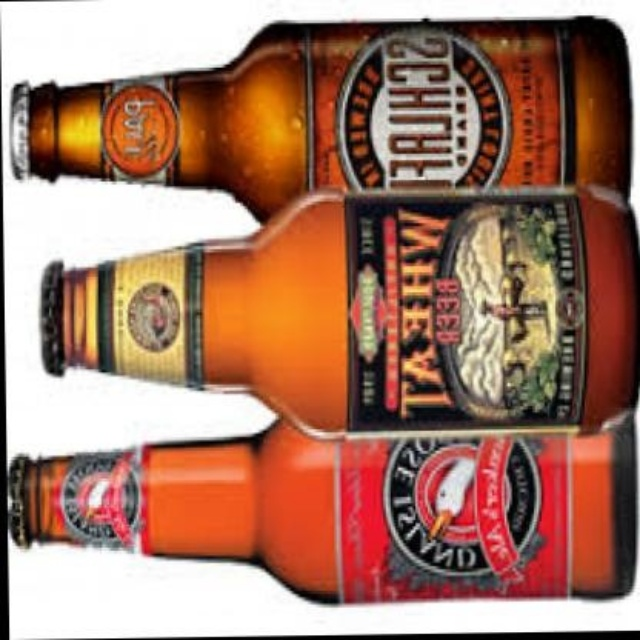trash: (9, 17, 638, 602), (42, 188, 635, 429), (11, 18, 629, 220), (9, 411, 634, 602)
